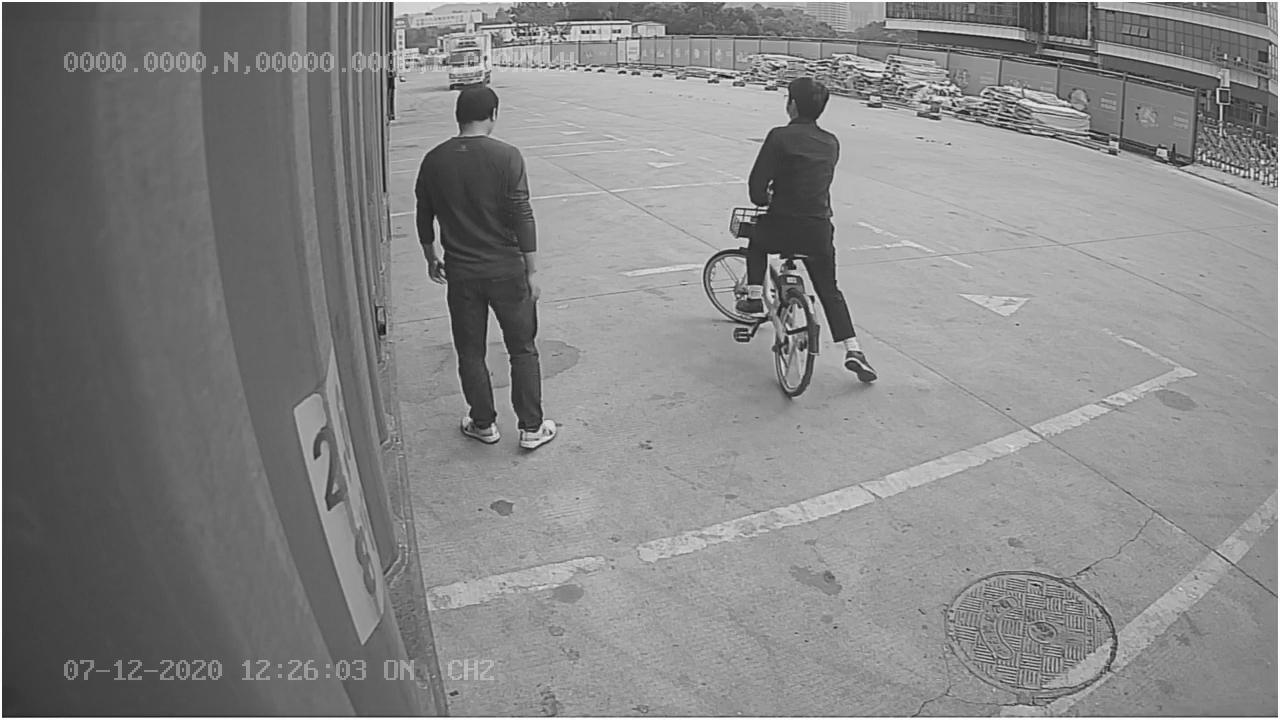person: (411, 80, 564, 458)
